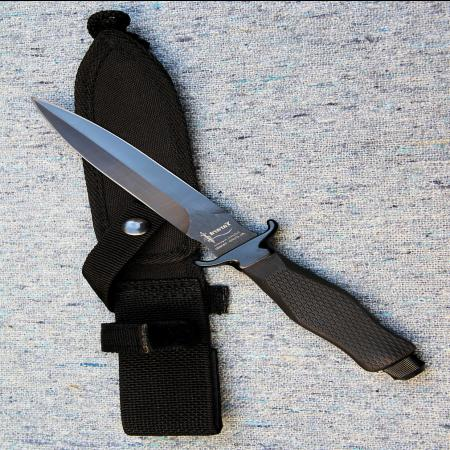long weapon: (23, 90, 234, 241)
